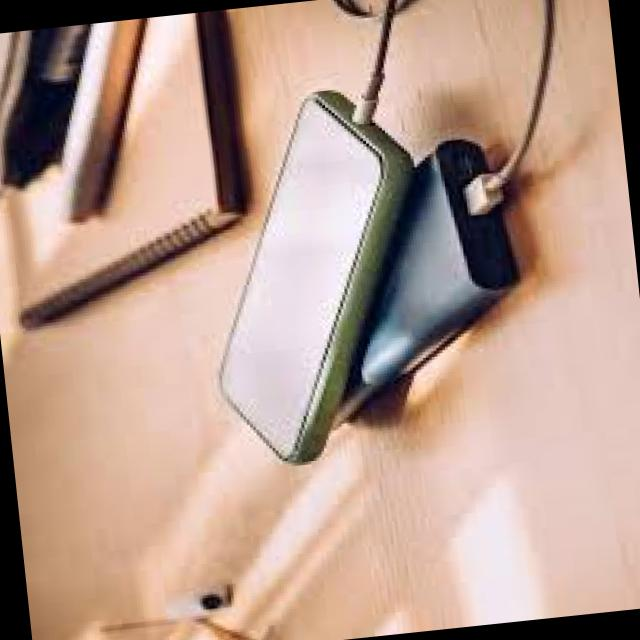portable-charger: (280, 125, 530, 440)
